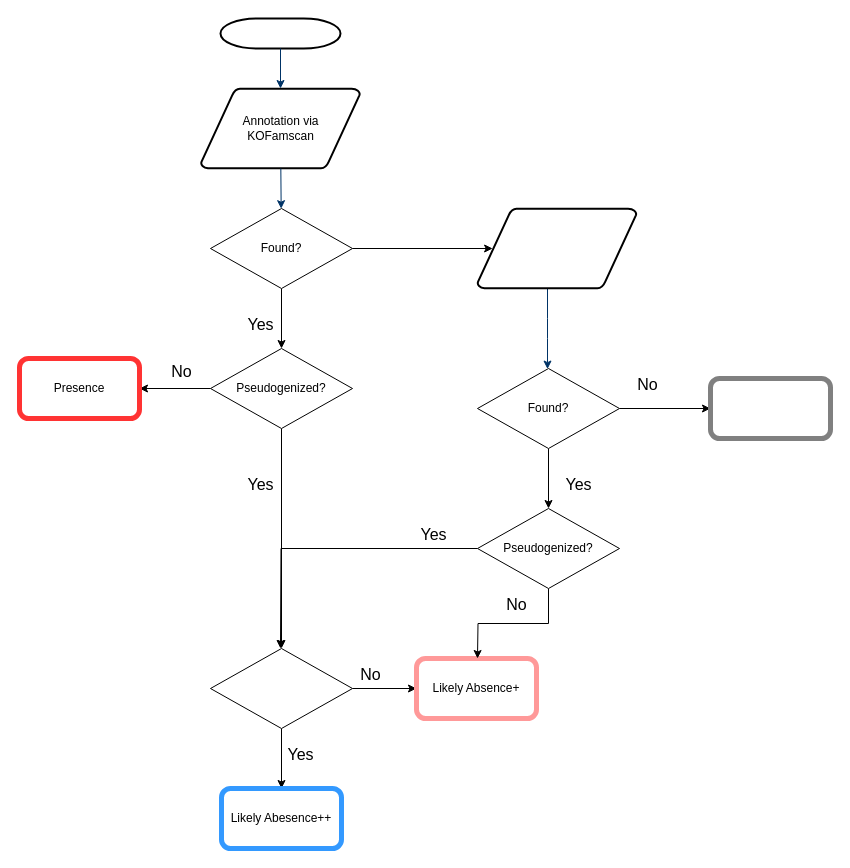
Some shapes in this 850 by 868 pixel diagram are drawn without their labels. Each missing label, with the box of its shape:
Annotation via Interproscan (CDD, Pfam): (476, 207, 637, 289)
Complete Absence: (708, 376, 832, 440)
Confident pseudogenized?: (210, 648, 352, 728)
Specific Locus: (219, 17, 341, 49)
